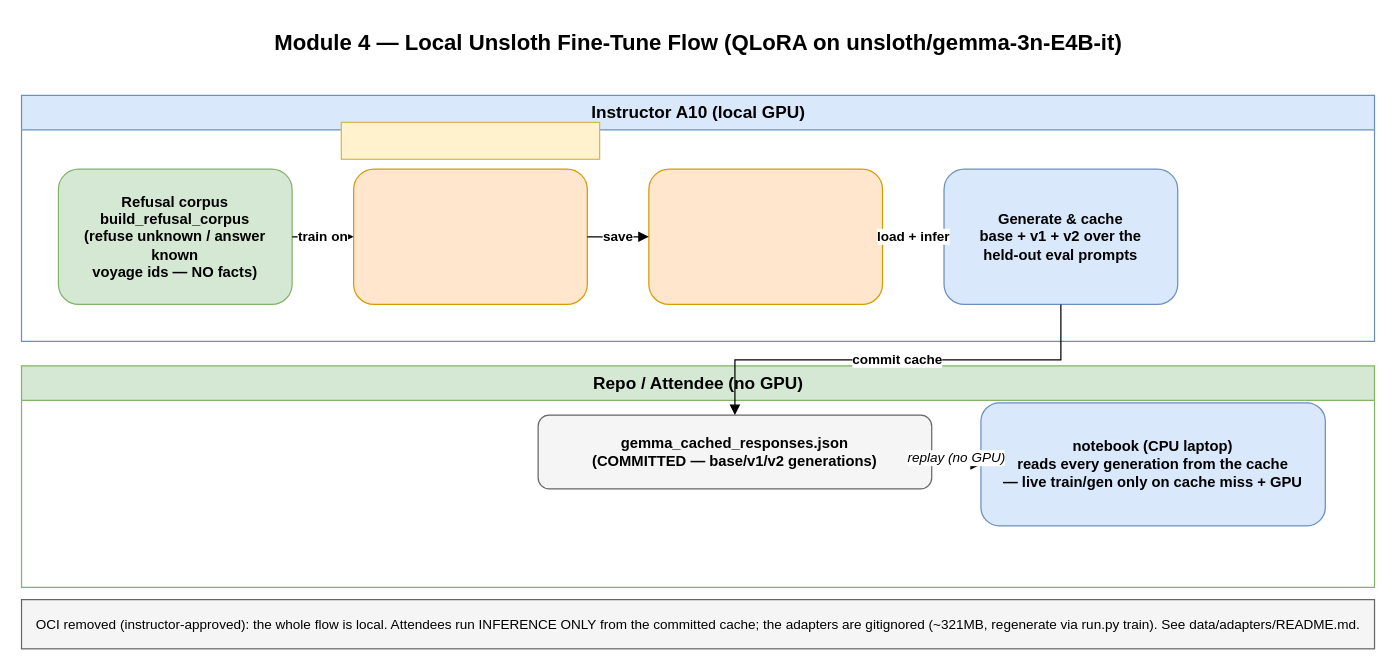
This 1396x670 diagram has some shape labels left out. Each missing label, with the centre of its shape:
no warm-start: each arm from frozen base: (470,140)
PEFT adapter v1 / v2 (~321 MB each — GITIGNORED): (765,236)
Unsloth + 4-bit QLoRA train fresh from base (minutes on one A10): (469,236)
